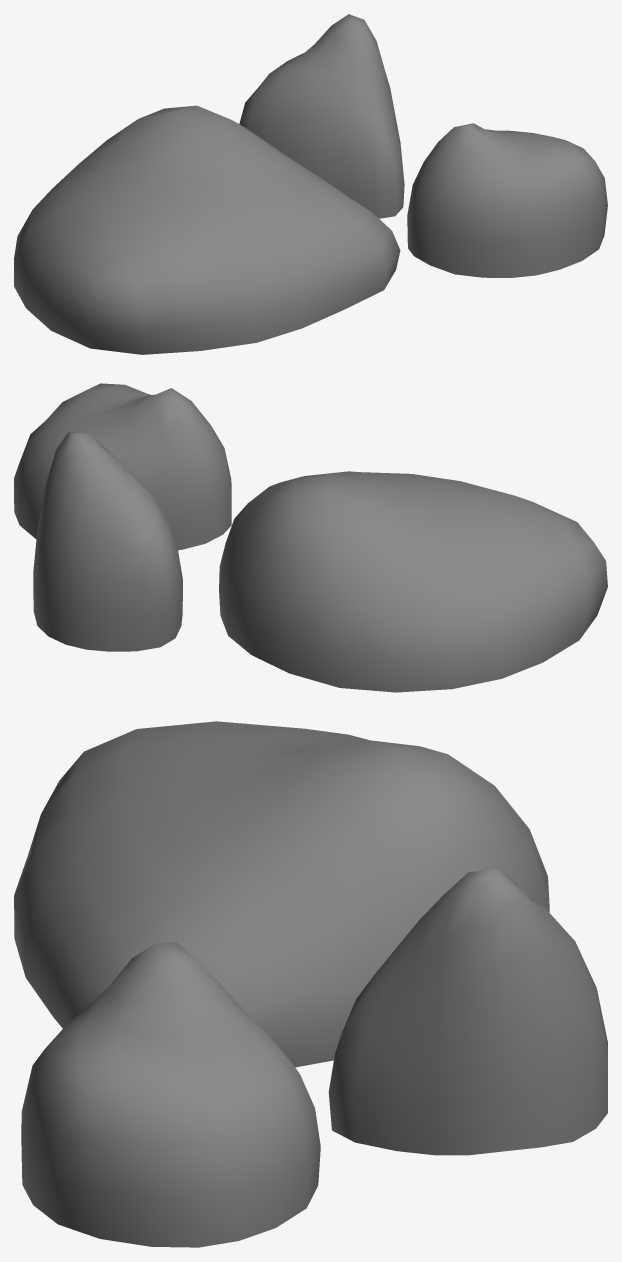
The model's file is Asset_Rocks.fbx.
The picture shows the model from 3 angles, top to bottom: view 1: azimuth 30°, elevation 25°; view 2: azimuth 150°, elevation 25°; view 3: azimuth 270°, elevation 25°; orthographic projection. The views are drawn at different scales.
Visible parts, largest first — view 1: pSphere1, pSphere3, pSphere2; view 2: pSphere1, pSphere2, pSphere3; view 3: pSphere1, pSphere3, pSphere2.
Boxes of the visible parts, box(x1,y1,x2,y2) form: pSphere1: box(14, 105, 400, 354); pSphere3: box(407, 123, 607, 277); pSphere2: box(239, 14, 404, 218); pSphere1: box(219, 471, 607, 692); pSphere2: box(33, 432, 182, 651); pSphere3: box(14, 383, 231, 550); pSphere1: box(14, 721, 549, 1067); pSphere3: box(21, 942, 320, 1247); pSphere2: box(328, 868, 607, 1155).
Size of the model in its own units: 389 by 233 by 115.
